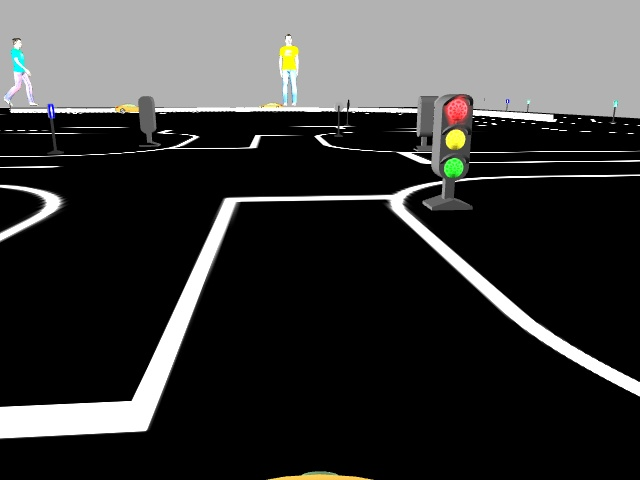TrafficLight: (431, 90, 470, 179)
